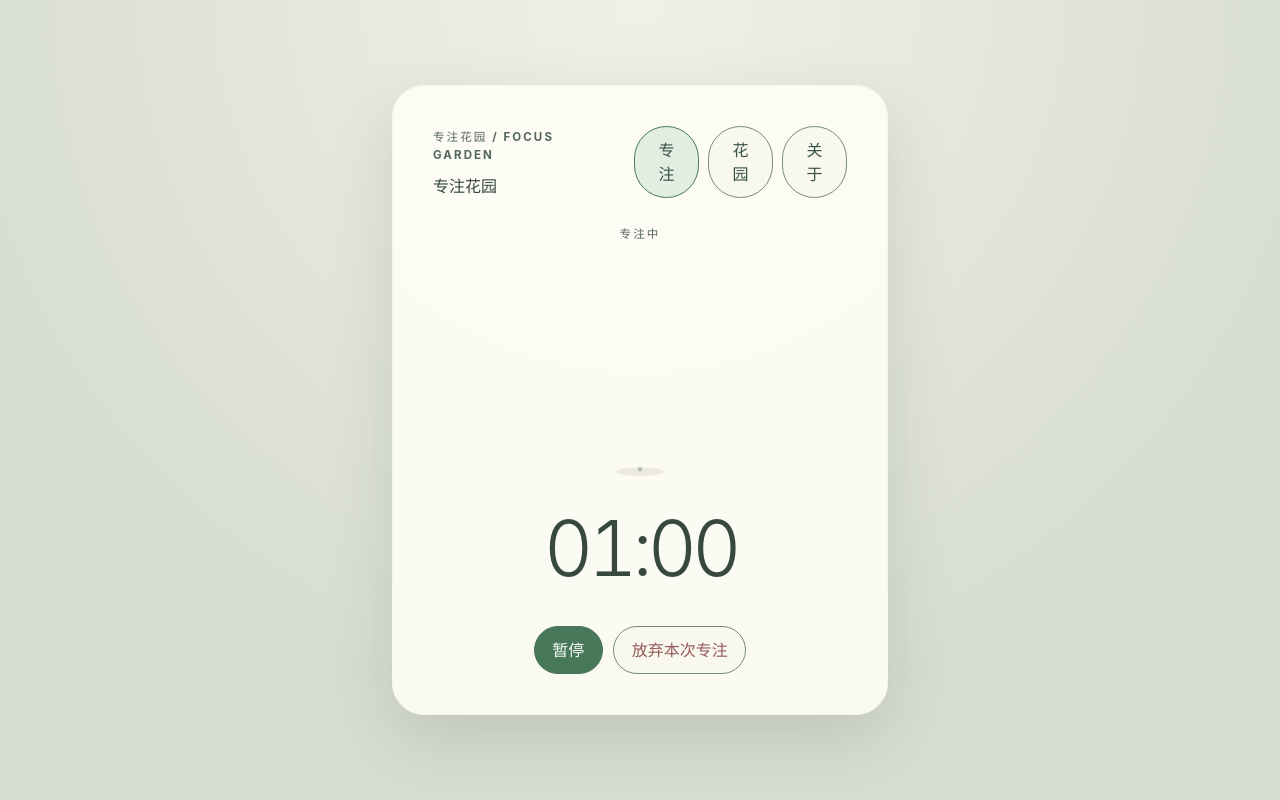
App › returns to duration selection after abandoning an active session
Click the button "放弃本次专注": (680, 650) [613, 626, 746, 674]
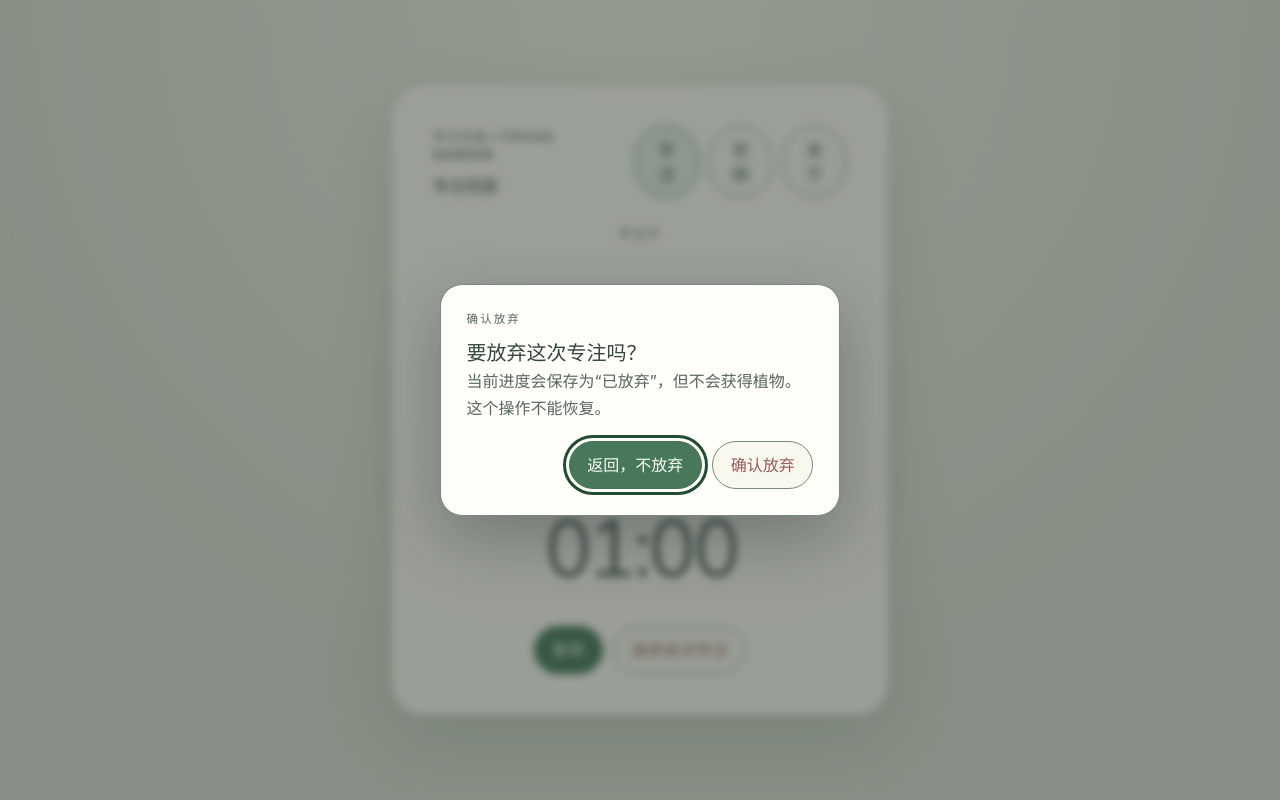
Click the button "确认放弃": (763, 465) [712, 441, 813, 489]
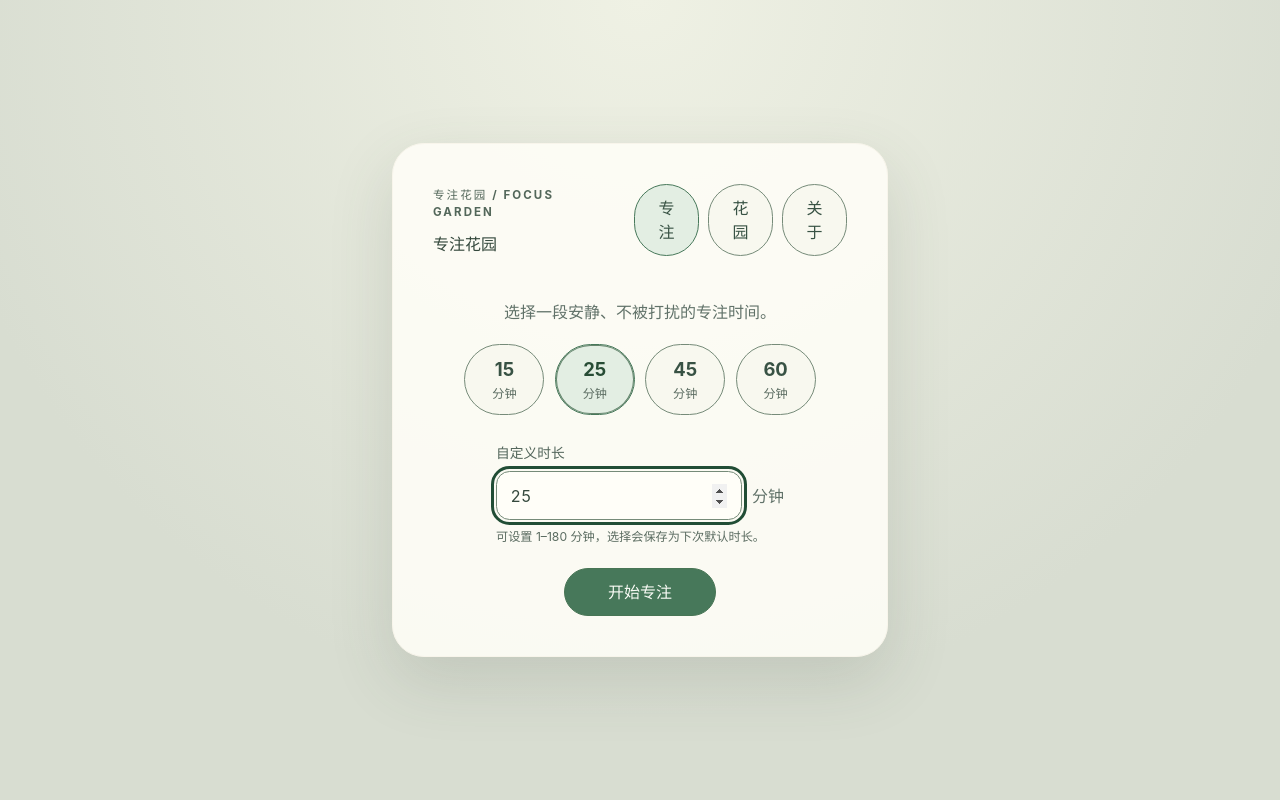
Now the button named "25分钟" is shown, box [555, 344, 635, 415]
